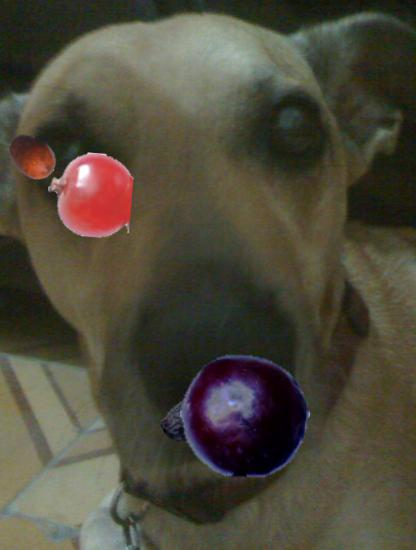Dates: (160, 375, 241, 456)
Nut: (6, 131, 58, 183)
Plum: (180, 351, 311, 482)
Redcurrant: (48, 153, 132, 237)
